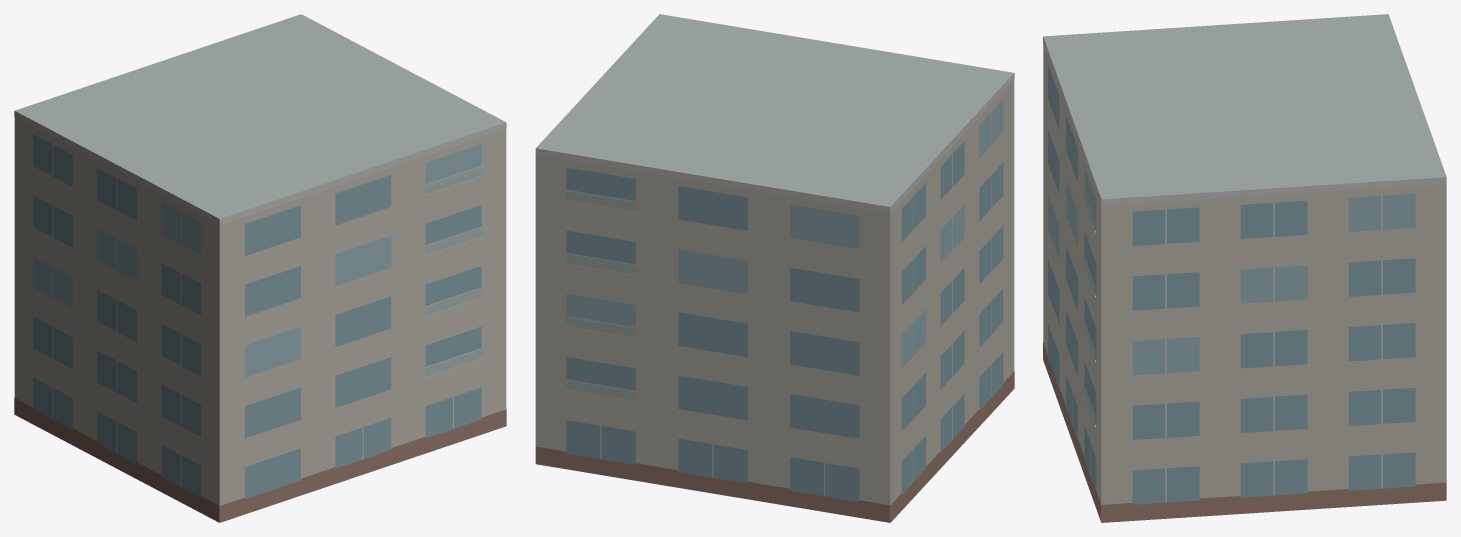
Rendered from survey-upis-32538597.glb.
3 renders of one model, left to right at view 1: azimuth 30°, elevation 25°; view 2: azimuth 150°, elevation 25°; view 3: azimuth 270°, elevation 25°, orthographic. The views are drawn at different scales.
Parts seen in each view (by area): view 1: survey-upis-32538597.tmp; view 2: survey-upis-32538597.tmp; view 3: survey-upis-32538597.tmp.
Boxes of the visible parts, left/top/right/bottom form: survey-upis-32538597.tmp: left=14, top=14, right=506, bottom=522; survey-upis-32538597.tmp: left=535, top=14, right=1014, bottom=522; survey-upis-32538597.tmp: left=1043, top=14, right=1446, bottom=522.
Bounding box in the file's own units: 14.39 × 11.7 × 13.24.
